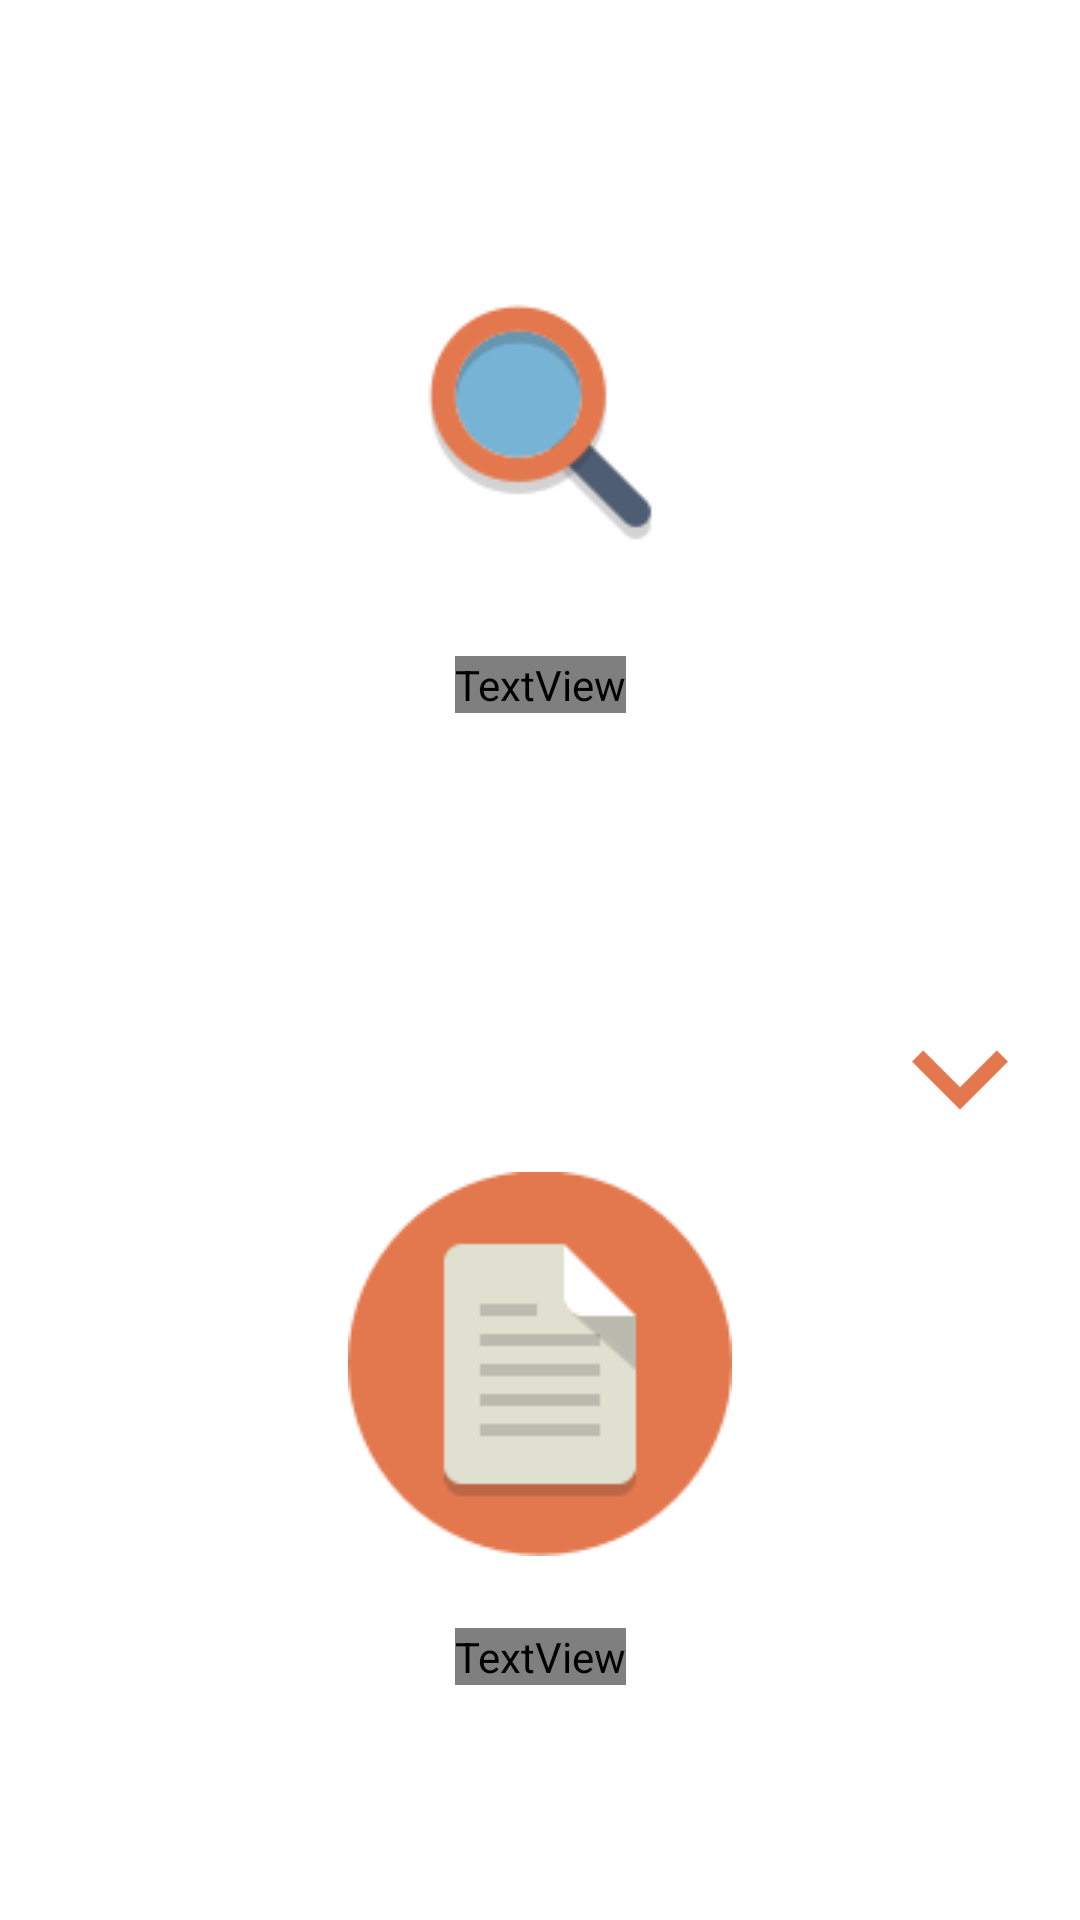

Named icons in this screenshot (1080*1920) and their centers, (x=x, y=y):
search home: (x=540, y=422)
